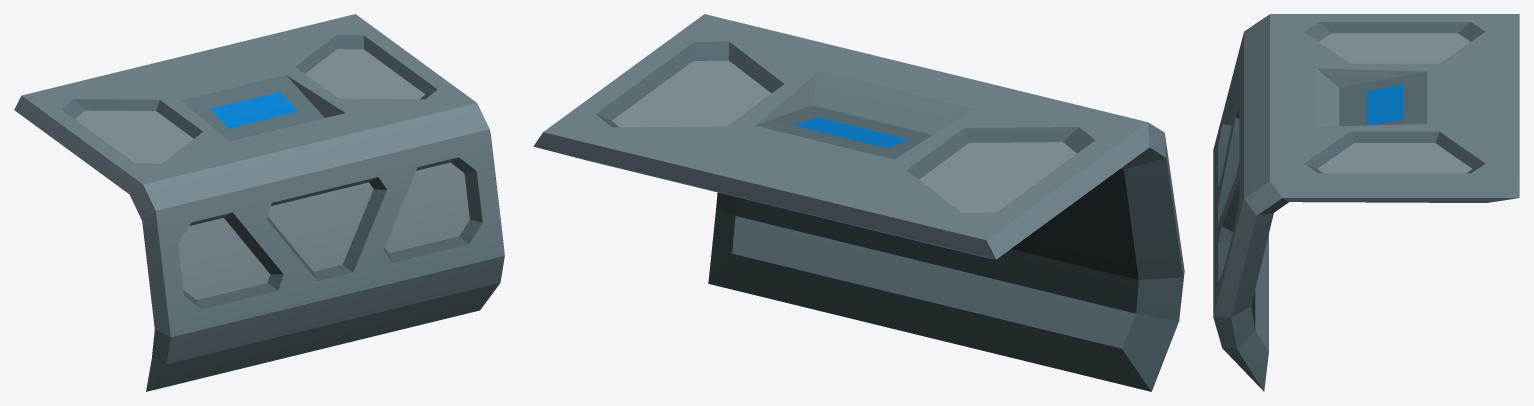
The model's file is Crate_016_cap_001.fbx.
The picture shows the model from 3 angles, left to right: view 1: azimuth 30°, elevation 25°; view 2: azimuth 150°, elevation 25°; view 3: azimuth 270°, elevation 25°; orthographic projection. The views are drawn at different scales.
Visible parts, largest first — view 1: Crate_016_cap_001; view 2: Crate_016_cap_001; view 3: Crate_016_cap_001.
Boxes of the visible parts, x1,y1,x2,y2 form: Crate_016_cap_001: (14,14,504,391); Crate_016_cap_001: (533,14,1184,391); Crate_016_cap_001: (1213,14,1519,391).
Size of the model in its own units: 88.89 by 65.89 by 50.
